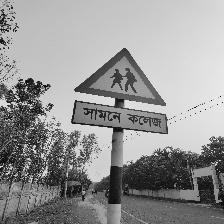College-in-front: (82, 43, 173, 147)
